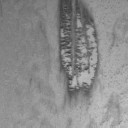oxide scale of plate system: (58, 0, 101, 108)
